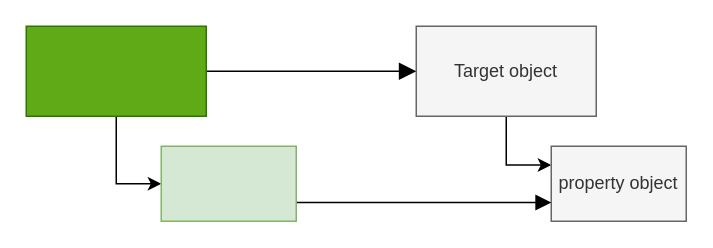
The diagram is 713 pixels wide and 248 high, and some of its shapes have lost their labels. The shapes that lost their labels are listed below. From the top down, each one's centre as x and y in pixels, then its label:
At point (115, 70): "Proxy of target object".
At point (228, 183): "Proxy of property object".
